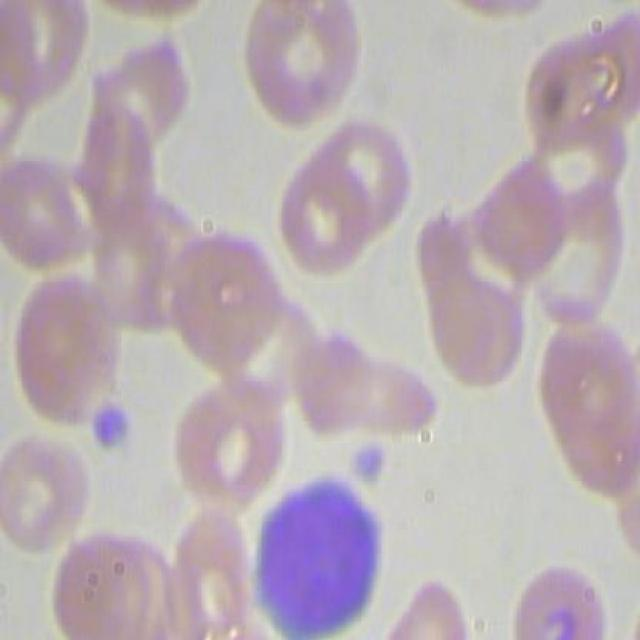Platelets: (83, 397, 140, 454), (348, 436, 392, 487)
RBC: (161, 378, 287, 510), (270, 157, 372, 280), (313, 117, 416, 238)
WBC: (245, 470, 383, 638)
